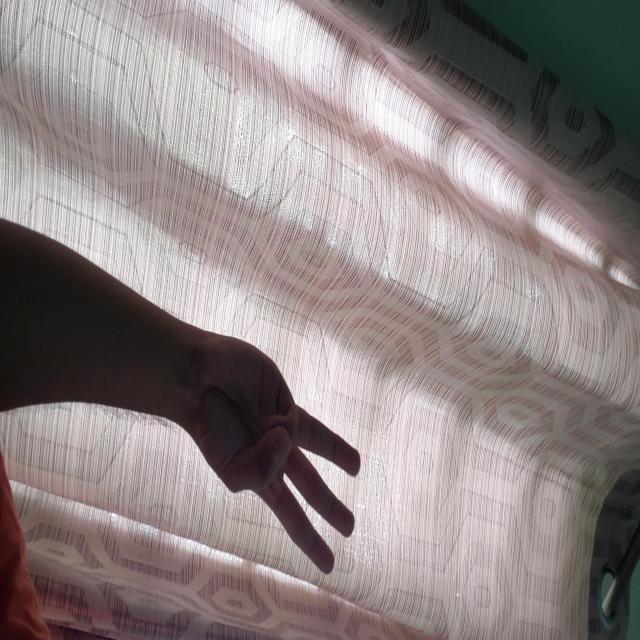W: (334, 278, 576, 451)
